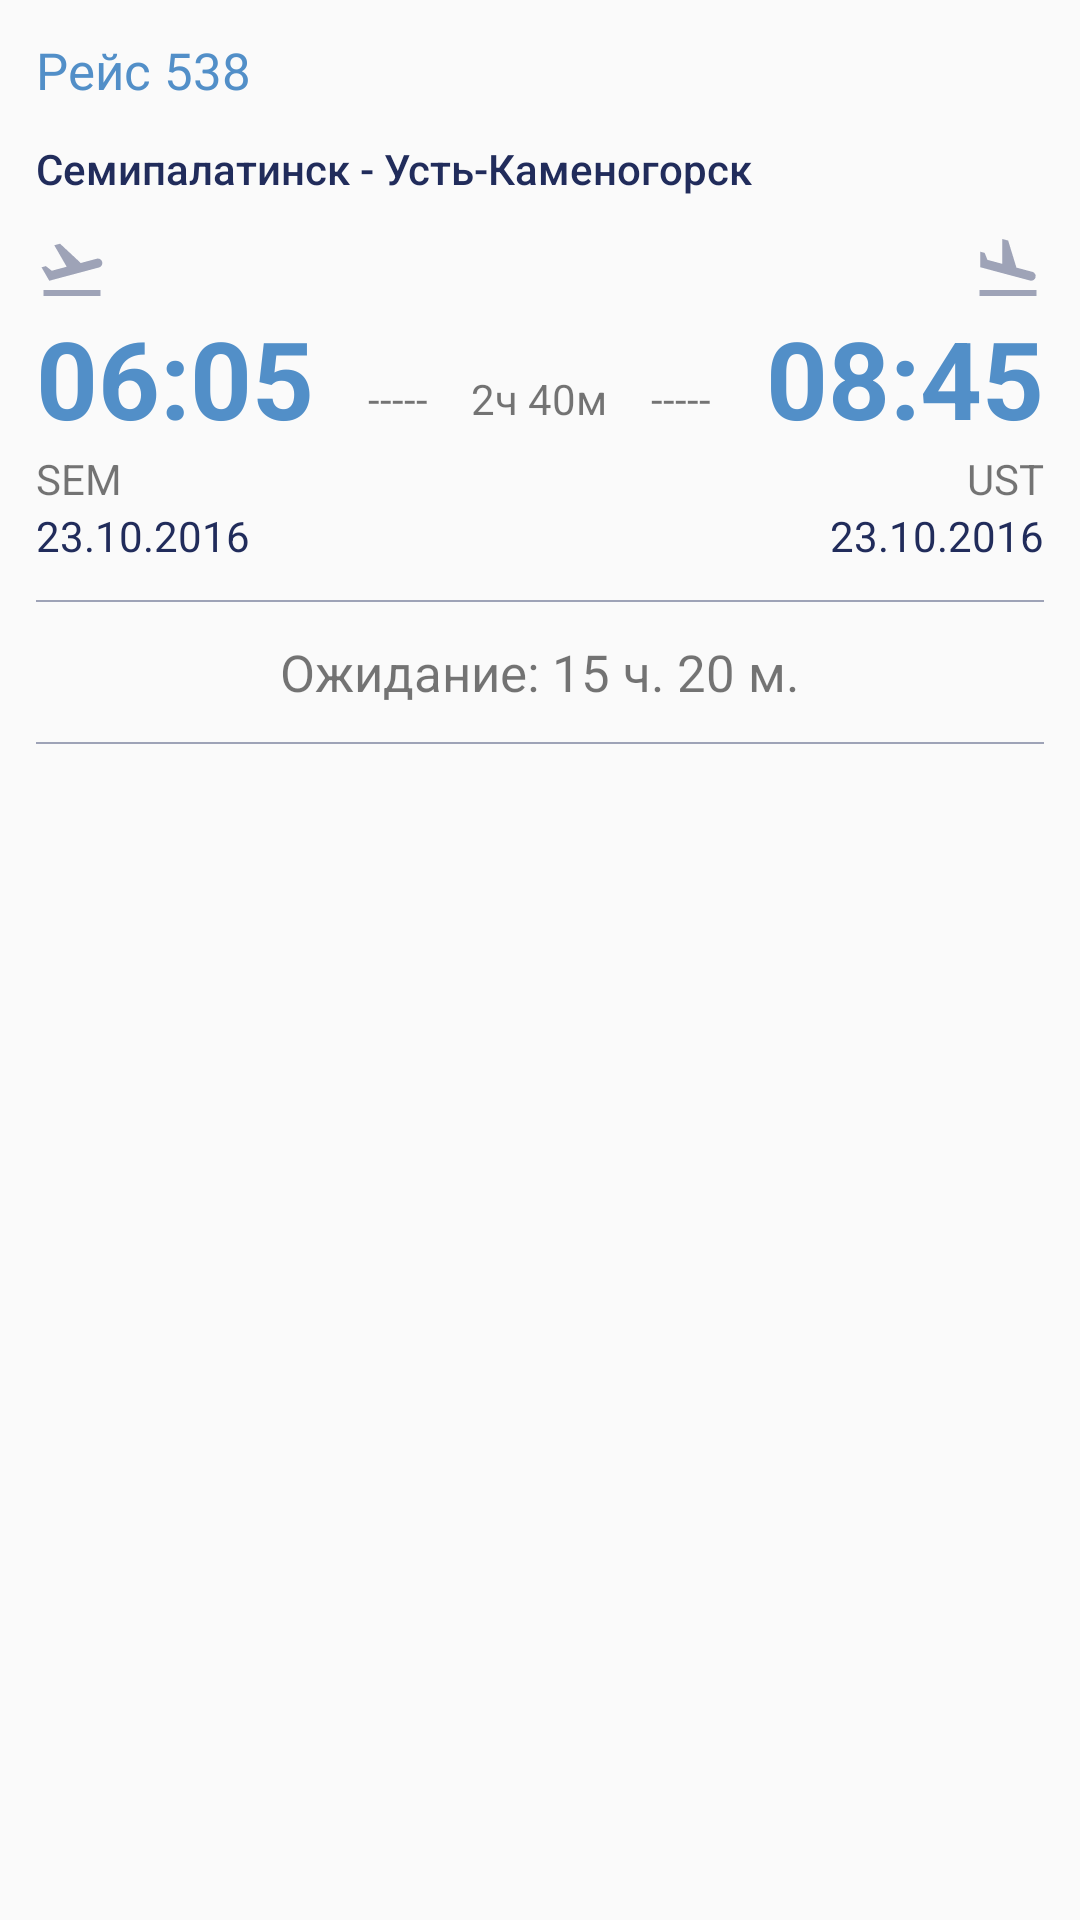

Icon click points for this 1080×1920 phone screenshot, format (x,y):
flight land: (1008,267)
flight takeoff: (72,270)
